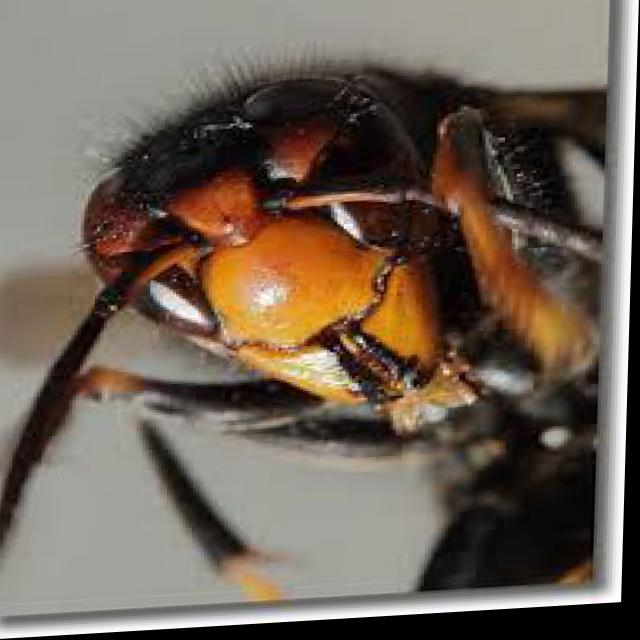Vespa Velutina: (0, 0, 615, 612)
